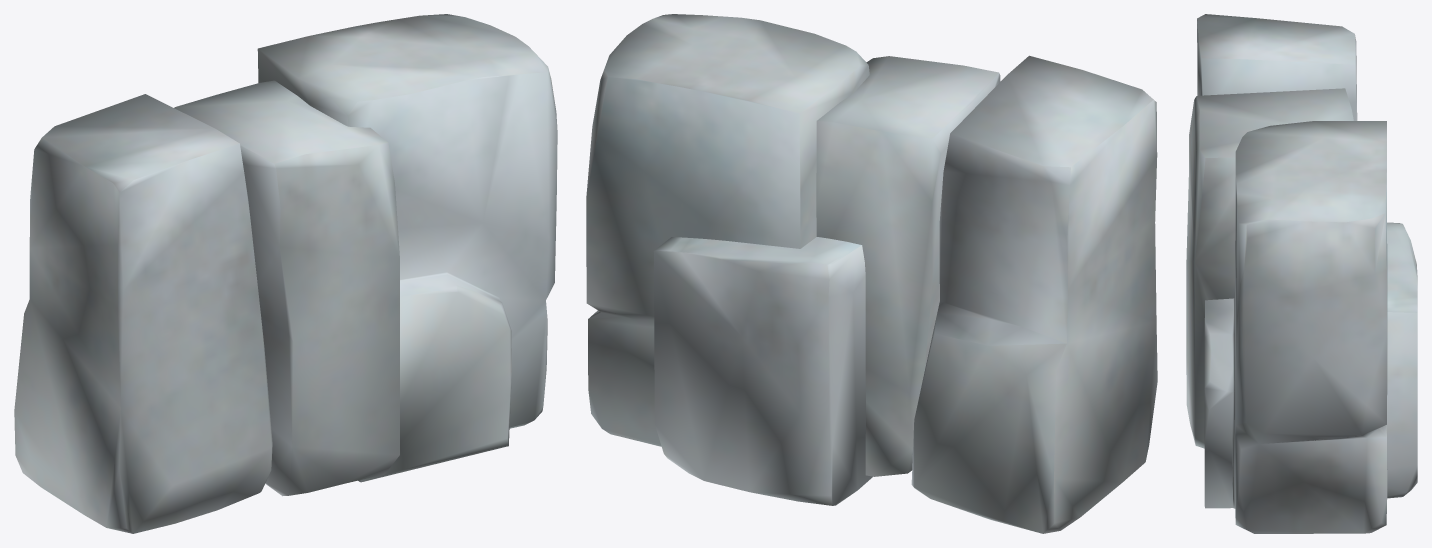
Rendered from P_BoulderCubic02.obj.
The picture shows the model from 3 angles, left to right: view 1: azimuth 30°, elevation 25°; view 2: azimuth 150°, elevation 25°; view 3: azimuth 270°, elevation 25°; orthographic projection. The views are drawn at different scales.
Size of the model in its own units: 7.7 by 5.96 by 3.7.
